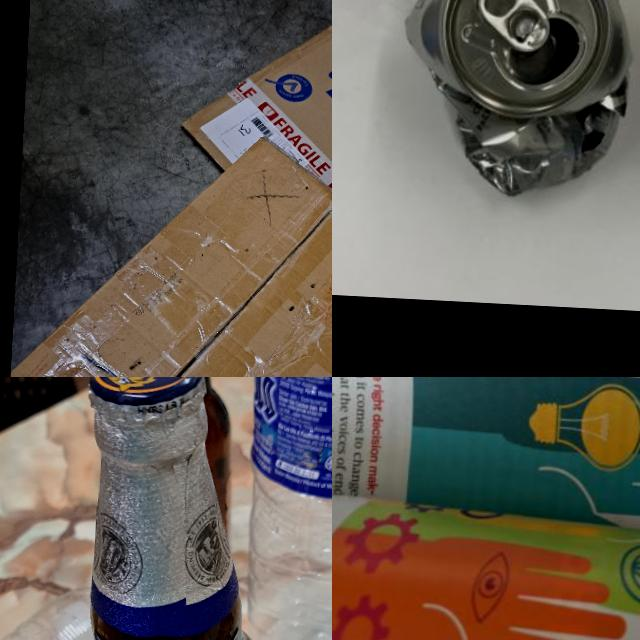aba de lata: (473, 0, 554, 54)
garrafa de vidro: (54, 377, 309, 640)
garrafa plástica: (237, 377, 332, 640)
lata: (396, 0, 640, 201)
papel: (332, 377, 640, 640)
papelão: (1, 125, 332, 377), (168, 0, 332, 377)
